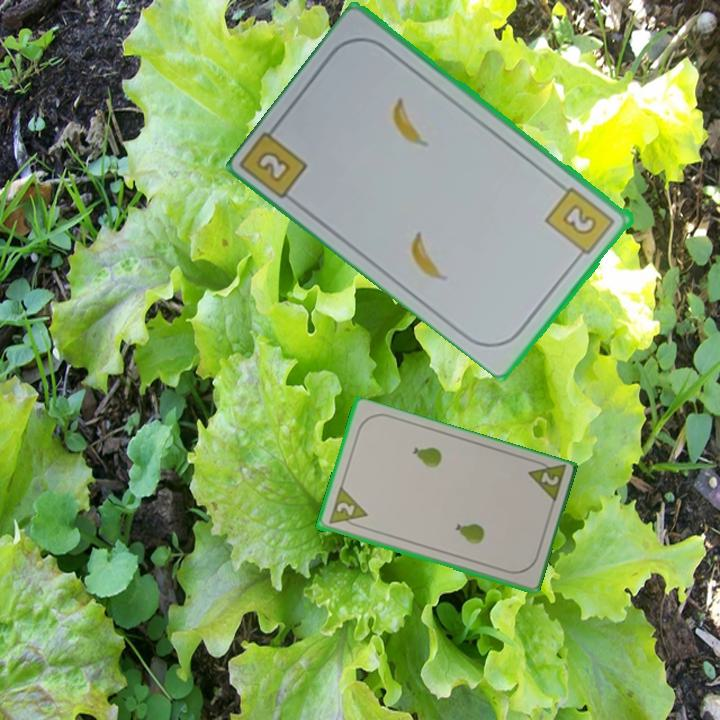2b: (542, 183, 619, 263), (253, 147, 294, 186)
2p: (524, 456, 568, 507), (325, 485, 370, 532)
